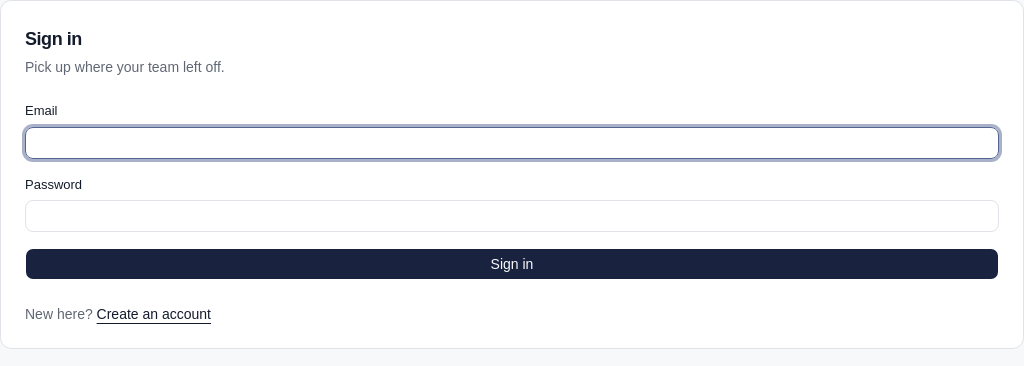
LoginPage › disables the button while the request is in flight
Type "alice@example.com" into the field labelled "Email". click: x=512, y=142
box: [25,126,999,158]
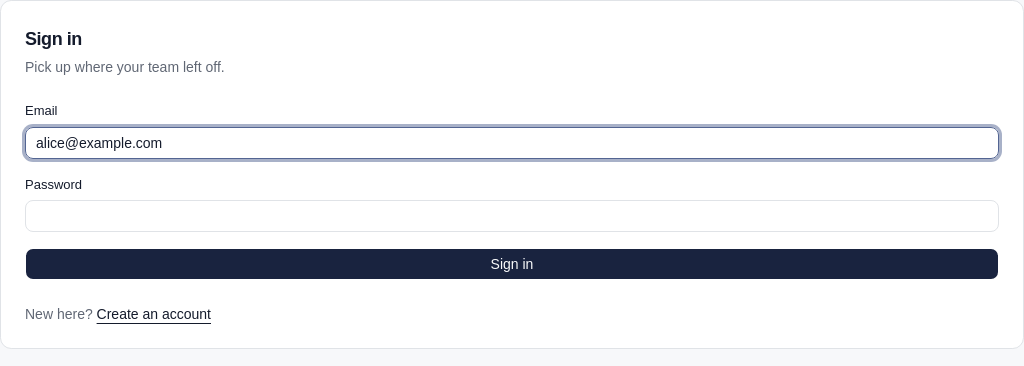
Type "correct-horse-battery" into the password field labelled "Password". click: x=512, y=216
box: [25,200,999,232]
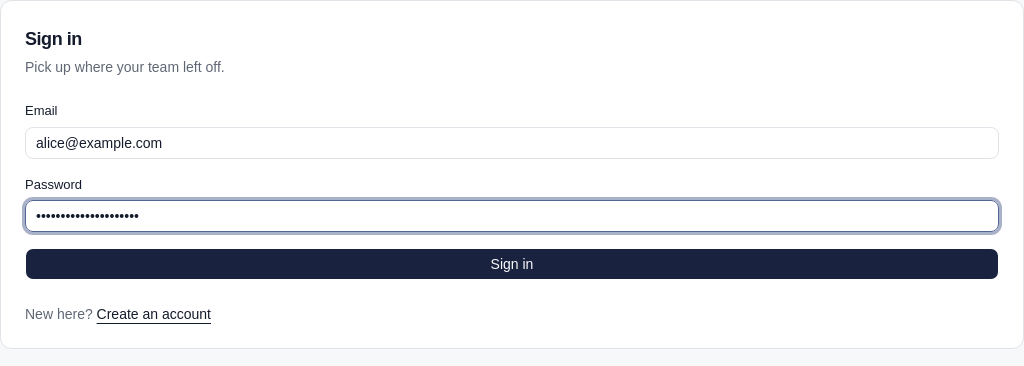
Click the button "Sign in". click: x=512, y=264
box: [25,248,999,280]
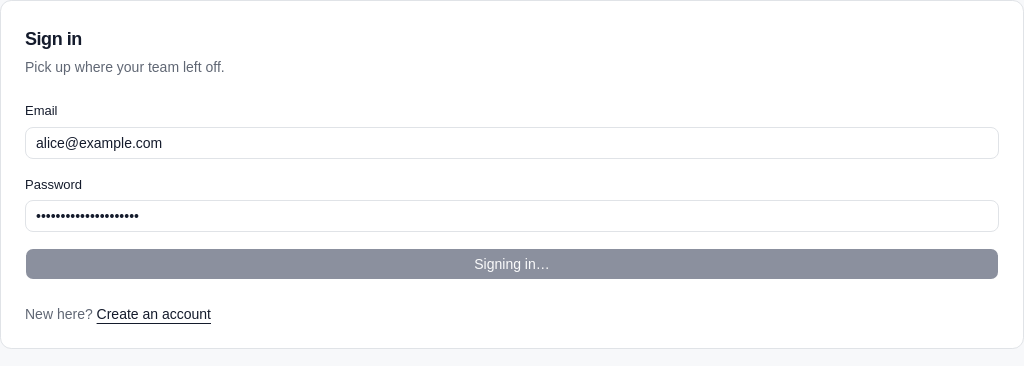
Now the button "Signing in…" is disabled, box [25,248,999,280]
